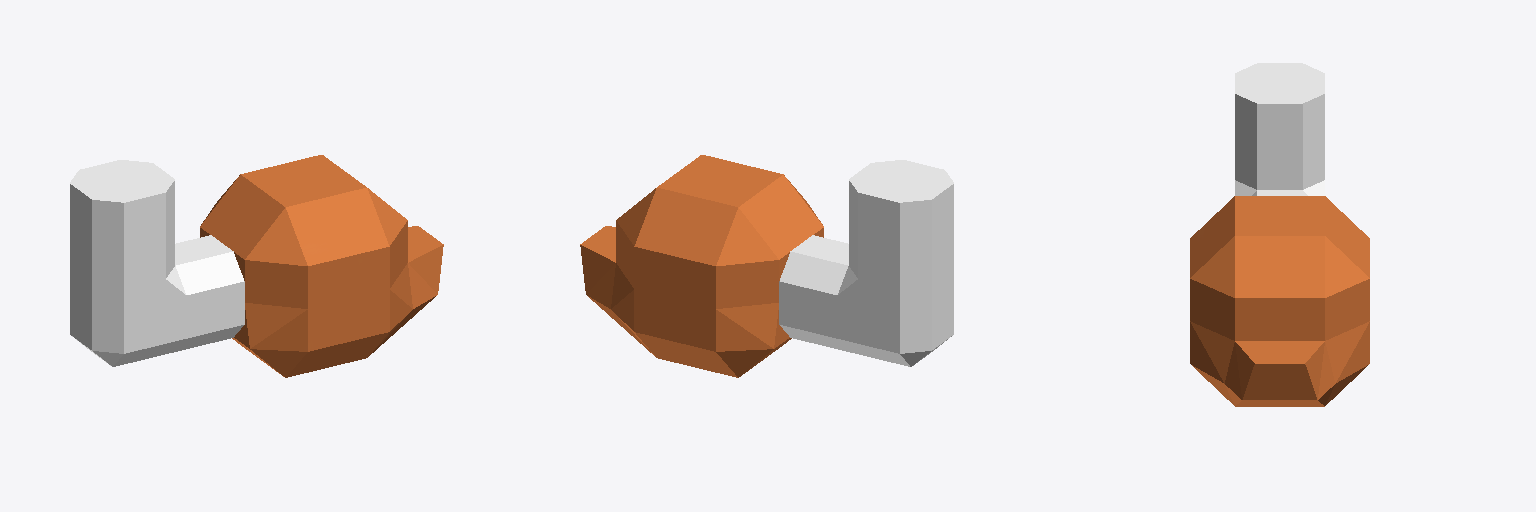
3 views of the same model, side by side, from view 1: azimuth 30°, elevation 25°; view 2: azimuth 150°, elevation 25°; view 3: azimuth 270°, elevation 25° (orthographic).
Parts seen in each view (by area): view 1: 立方体.001; view 2: 立方体.001; view 3: 立方体.001.
Part boxes in pixels (x1,y1,x2,y2): 立方体.001: (70,155,443,377); 立方体.001: (580,155,953,377); 立方体.001: (1190,63,1369,406).
Size of the model in its own units: 0.865 by 0.5063 by 0.3854.
Materials: 1 (1 with a texture image).